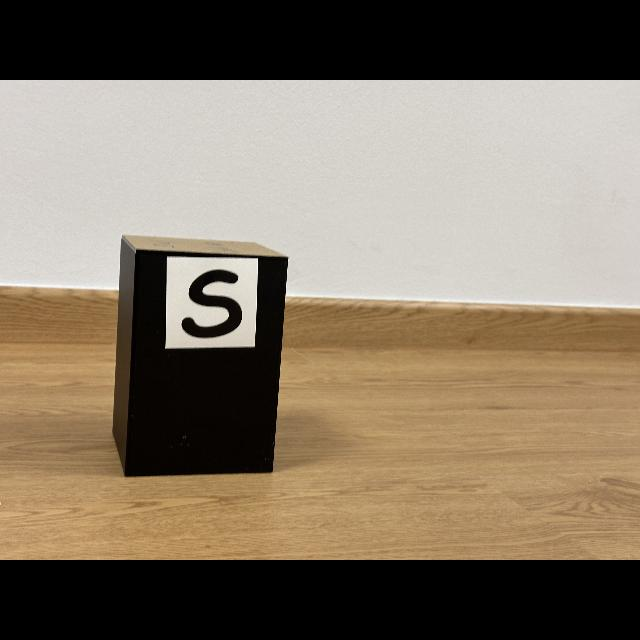S: (181, 270, 242, 338)
